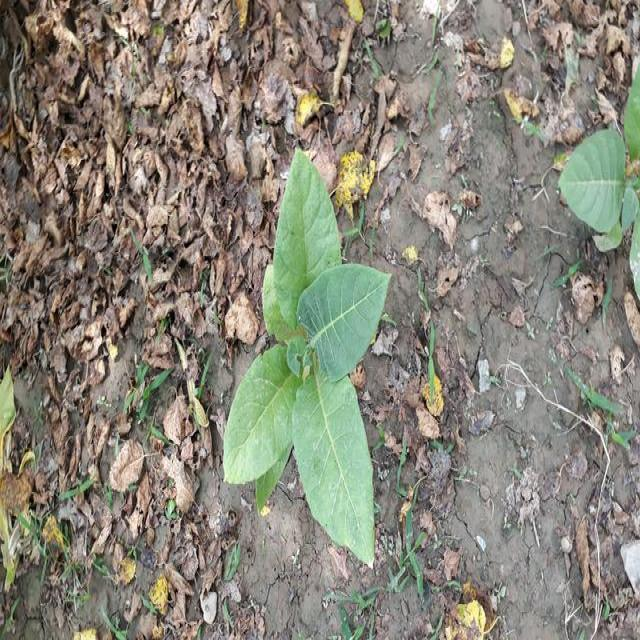crop: (226, 155, 386, 570), (562, 84, 640, 300)
